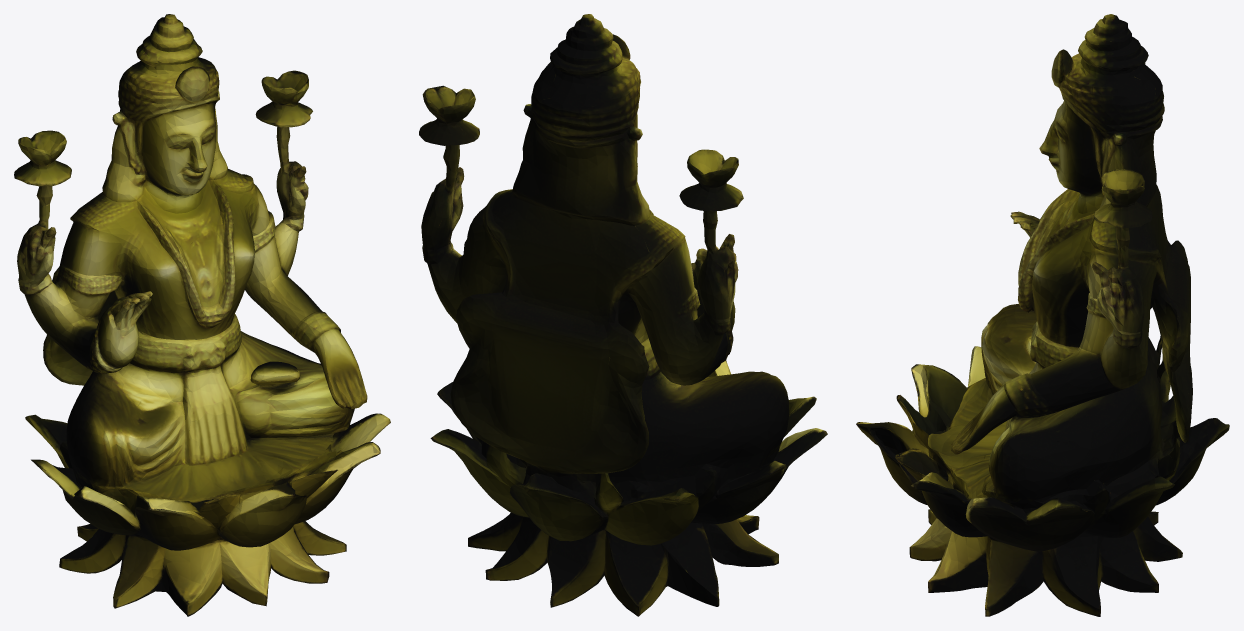
The model's file is sample.glb.
The picture shows the model from 3 angles, left to right: view 1: azimuth 30°, elevation 25°; view 2: azimuth 150°, elevation 25°; view 3: azimuth 270°, elevation 25°; orthographic projection. The views are drawn at different scales.
Parts seen in each view (by area): view 1: world; view 2: world; view 3: world.
Boxes of the visible parts, <box> form: world: <box>14,14,390,616</box>; world: <box>419,14,827,616</box>; world: <box>856,14,1229,616</box>.
Size of the model in its own units: 0.6273 by 1 by 0.6248.
Materials: 1 (1 with a texture image).
